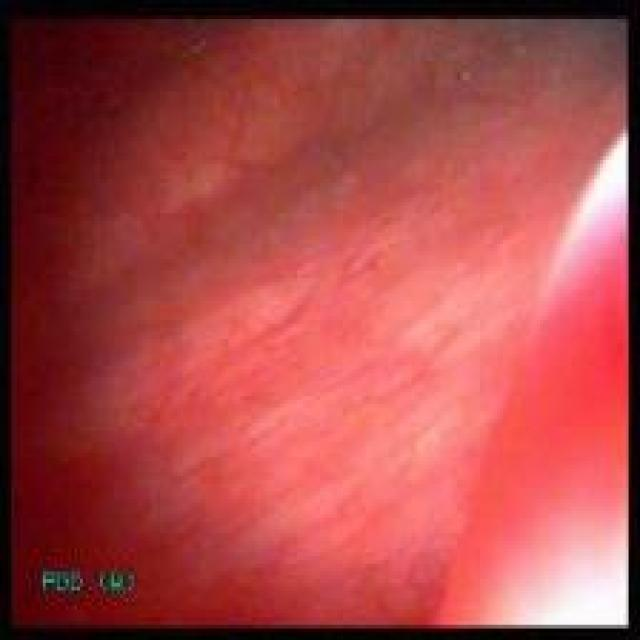color misalignment: (93, 567, 138, 598), (38, 567, 83, 596)
contrast: (10, 16, 168, 624)
saturation: (485, 387, 627, 622), (537, 120, 628, 384), (487, 509, 628, 627)
